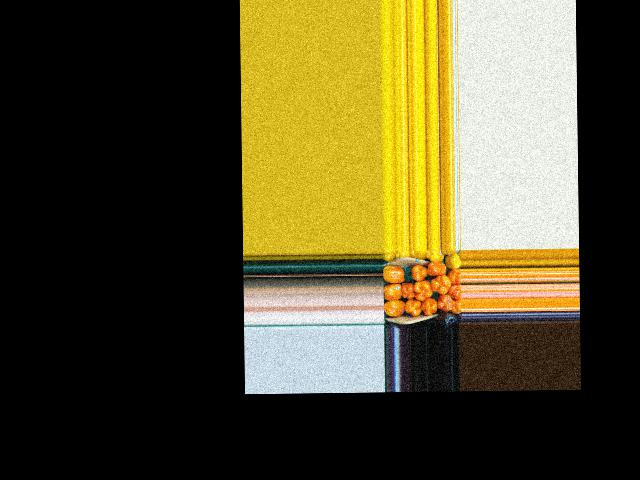bell_pepper: (423, 251, 444, 261)
